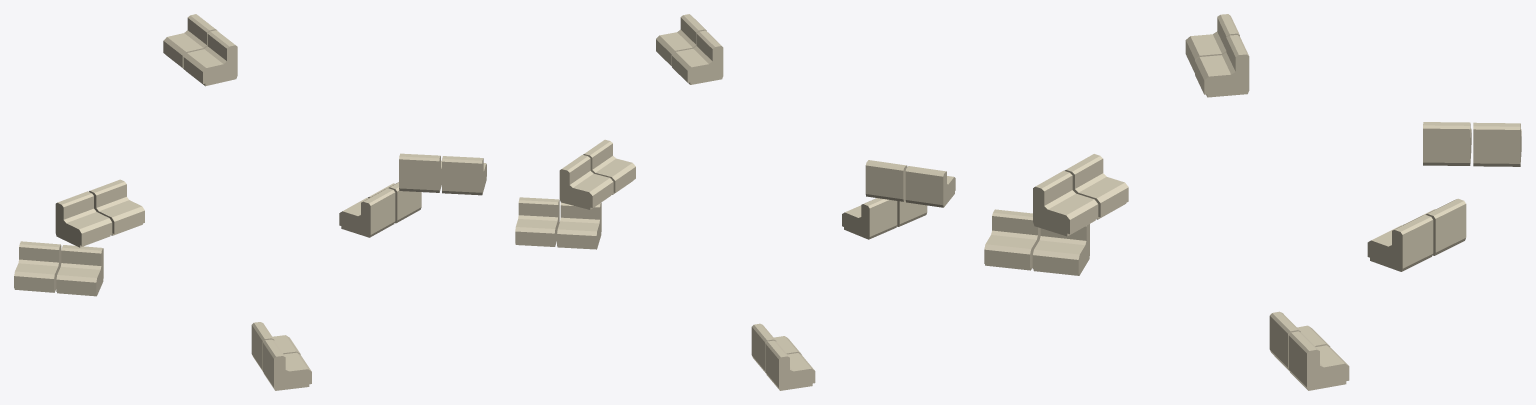
Rendered from sofa.glb.
3 views of the same model, side by side, from view 1: azimuth 30°, elevation 25°; view 2: azimuth 150°, elevation 25°; view 3: azimuth 270°, elevation 25° (orthographic). The views are drawn at different scales.
Parts seen in each view (by area): view 1: sofa.001; view 2: sofa.001; view 3: sofa.001.
Part boxes in pixels (bbox=[...]): sofa.001: bbox=[14, 14, 486, 390]; sofa.001: bbox=[515, 14, 955, 390]; sofa.001: bbox=[984, 14, 1521, 390].
Size of the model in its own units: 7.82 by 3.66 by 7.84.
